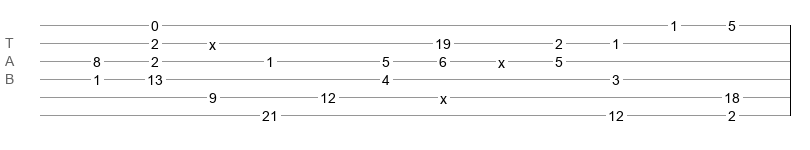0: (151, 18, 159, 28)
1: (93, 72, 101, 82), (266, 54, 274, 64), (612, 36, 620, 46), (670, 18, 678, 28)
12: (320, 90, 336, 100), (608, 108, 624, 118)
13: (147, 72, 163, 82)
18: (724, 90, 740, 100)
19: (435, 36, 451, 46)
2: (151, 54, 159, 64), (151, 36, 159, 46), (555, 36, 563, 46), (728, 108, 736, 118)
21: (262, 108, 278, 118)
3: (612, 72, 620, 82)
4: (382, 72, 390, 82)
5: (382, 54, 390, 64), (555, 54, 563, 64), (728, 18, 736, 28)
6: (439, 54, 447, 64)
8: (93, 54, 101, 64)
9: (209, 90, 217, 100)
x: (209, 37, 216, 45), (440, 91, 447, 99), (498, 55, 505, 63)
